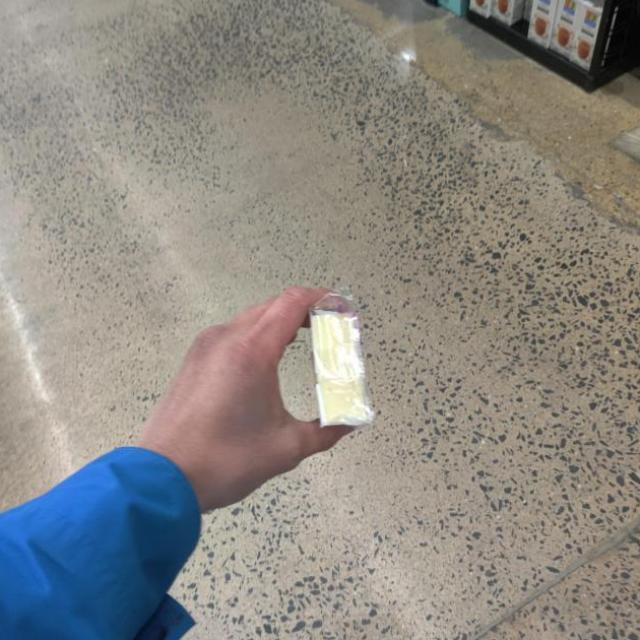Cheese: (305, 293, 380, 433)
